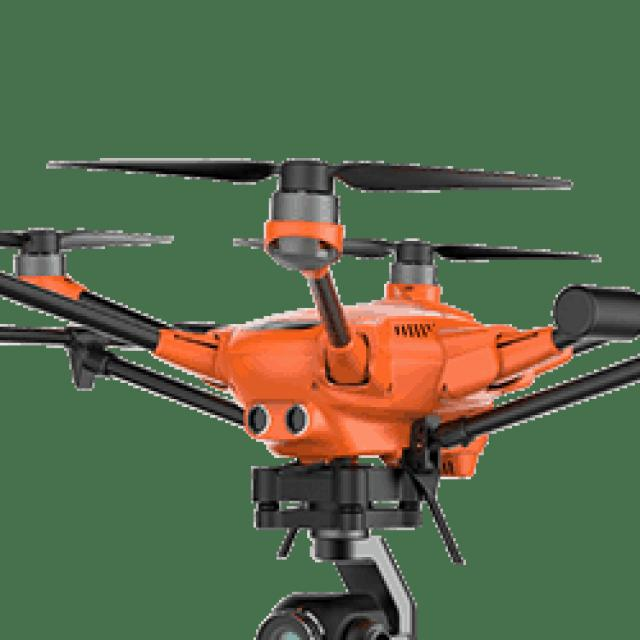drone: (0, 120, 640, 533)
